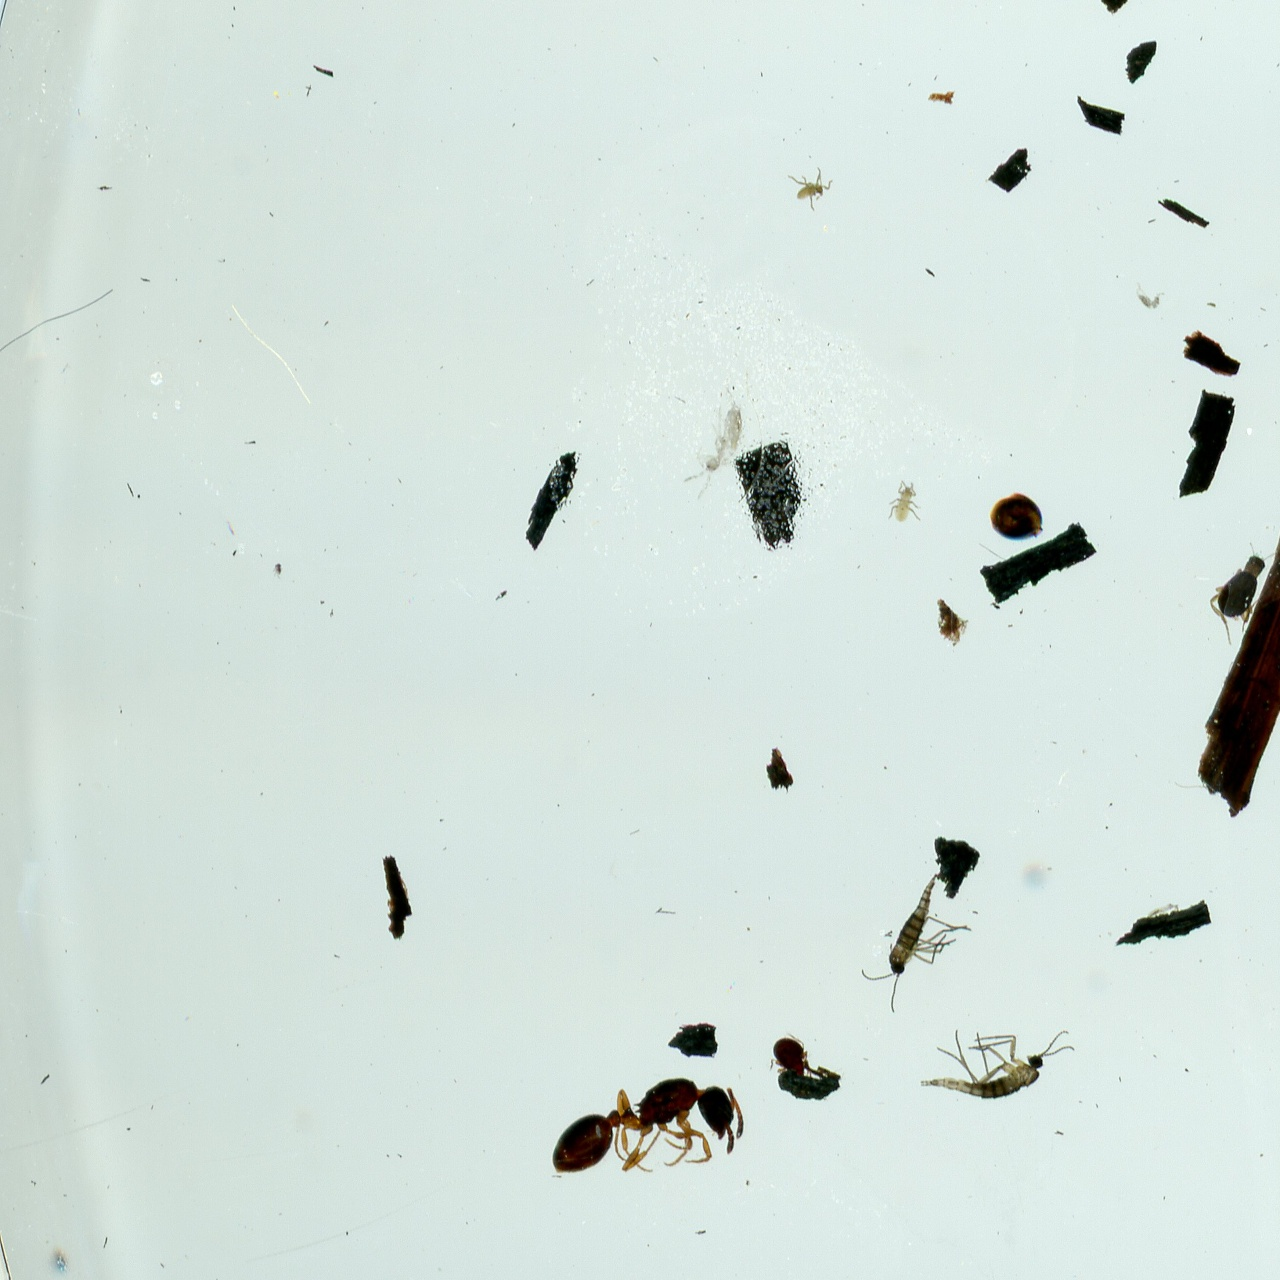arthropod: (537, 1059, 756, 1203), (847, 857, 988, 1032), (919, 1025, 1076, 1105), (672, 379, 767, 510), (1196, 533, 1280, 651), (988, 490, 1048, 544), (766, 1031, 815, 1079), (787, 166, 834, 212), (887, 480, 922, 524), (1134, 279, 1167, 313)
